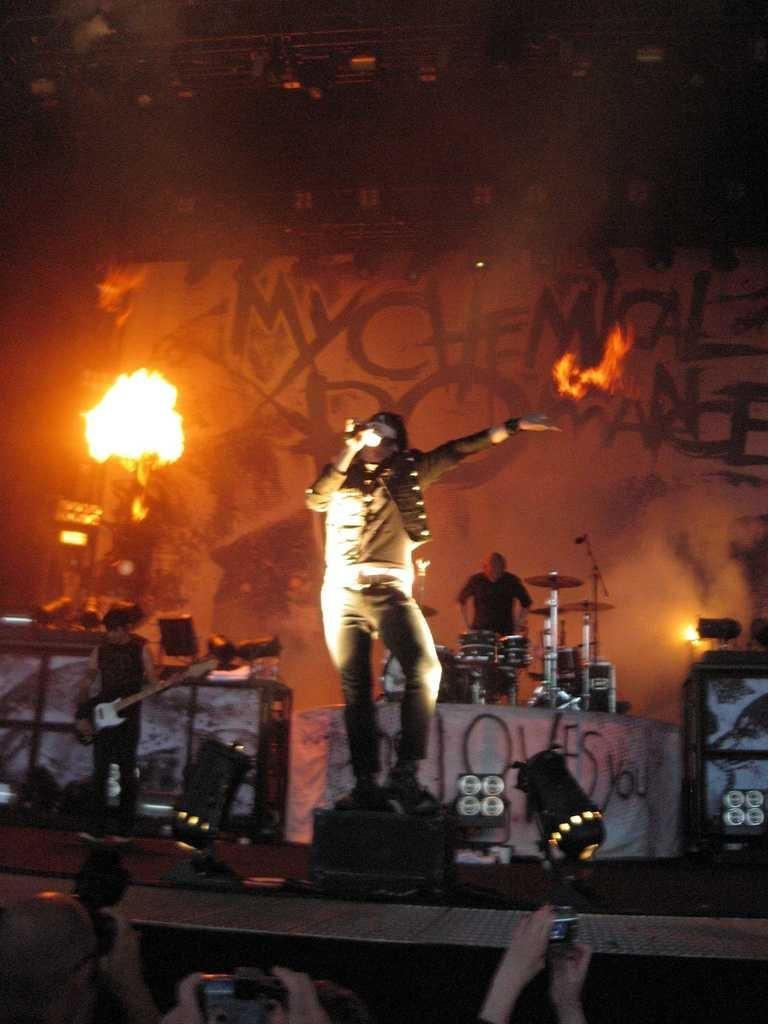fire: (100, 382, 182, 455), (552, 360, 628, 390)
